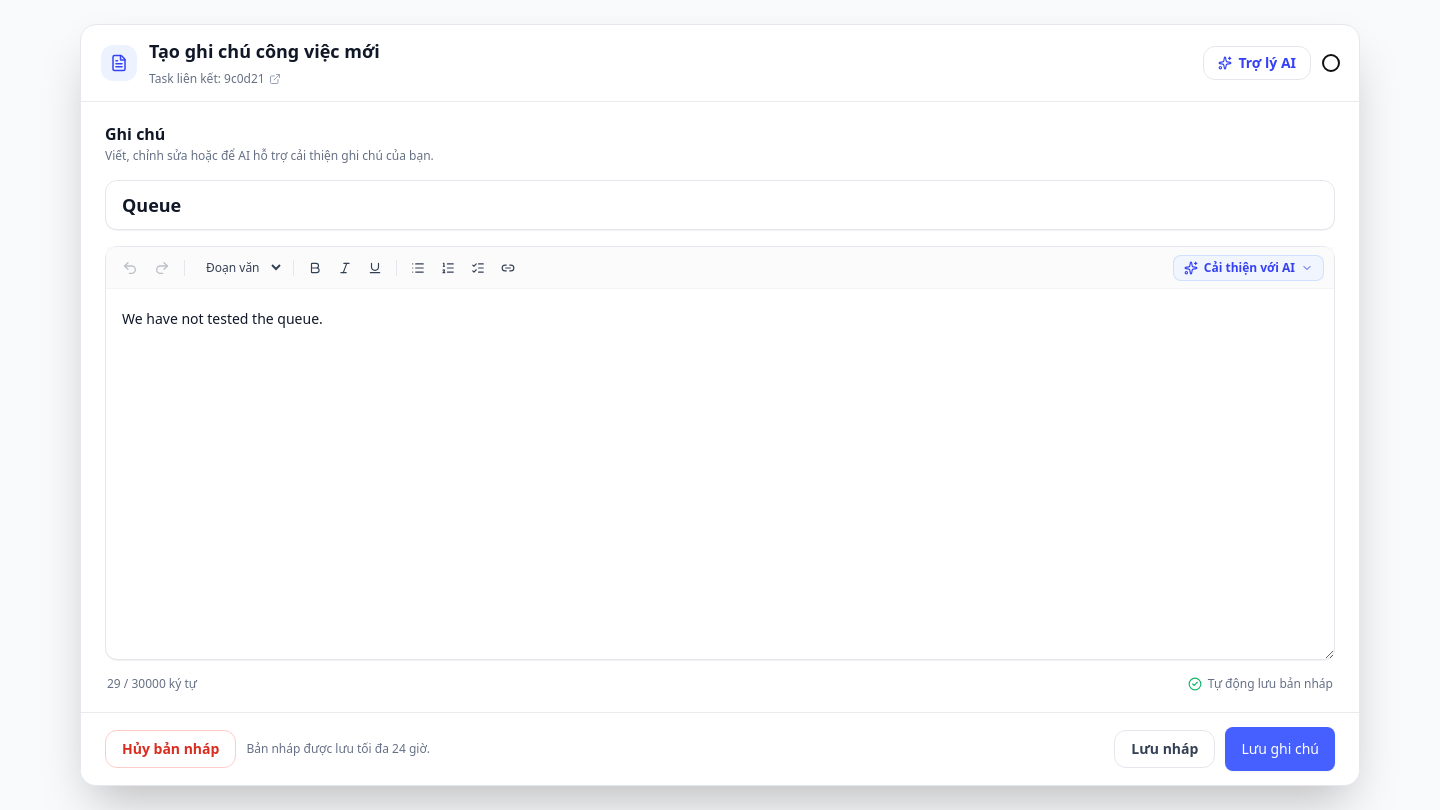
it: keeps newer typing when an Agent response arrives after a local edit
This screenshot has width=1440, height=810.
Expected: the text box showing "We have not tested the queue." is shown, [106,289,1334,659]
Click the button "Cải thiện với AI". click: (1248, 268)
box: [1173,255,1324,281]
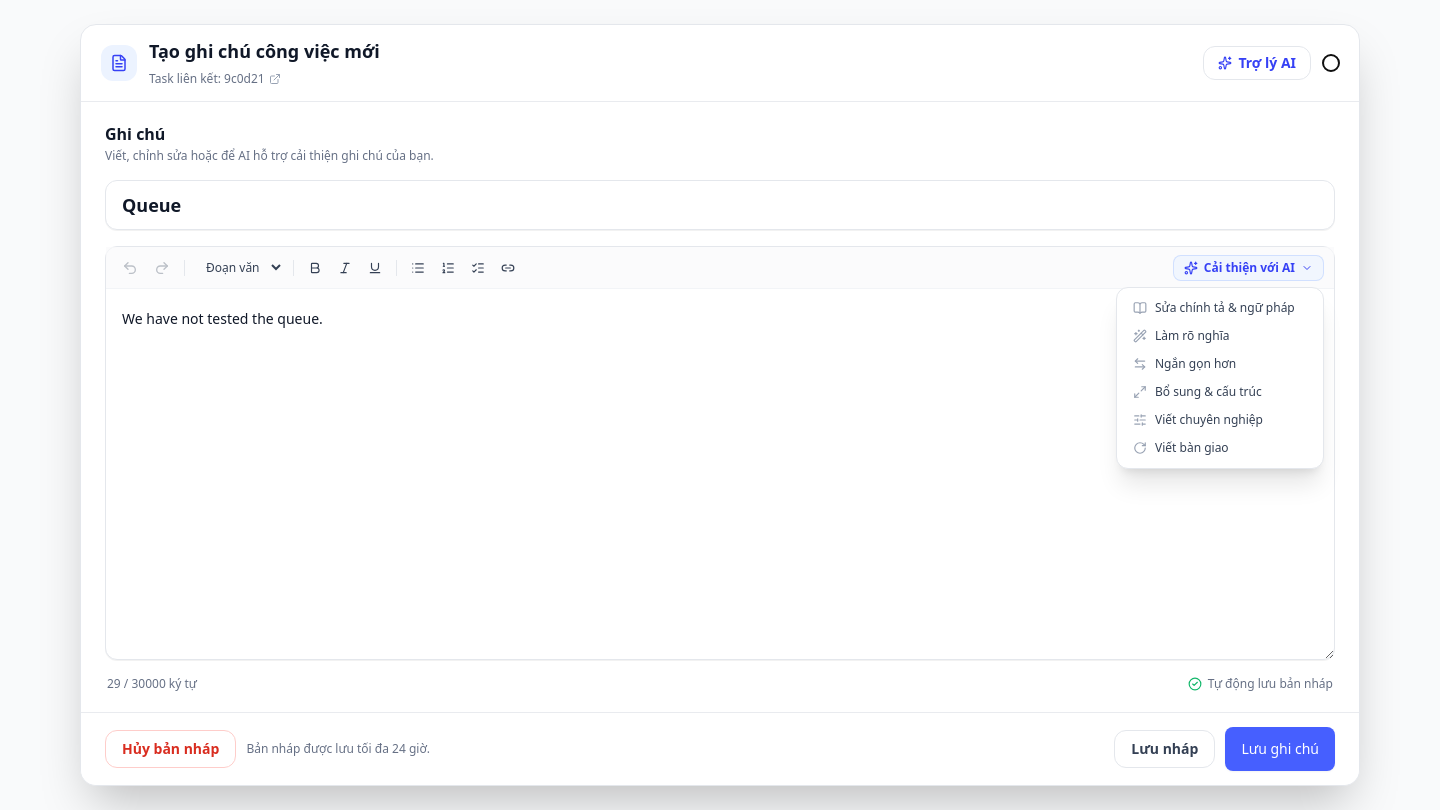
Click the button "Sửa chính tả & ngữ pháp". click: (1220, 308)
box: [1123,294,1317,322]
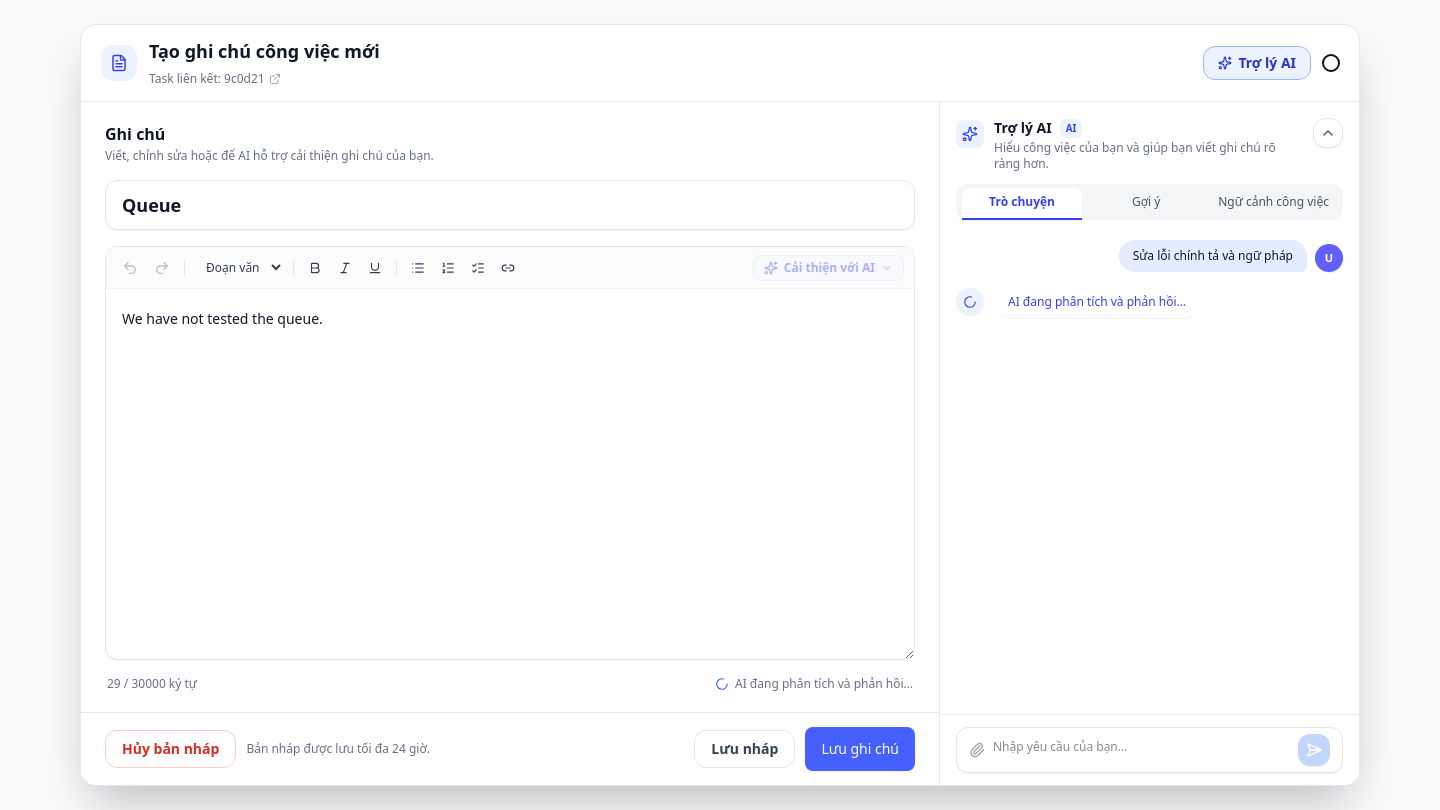
Replace the text in the text box named "Nội dung" with "A newer draft, still not tested.". click: (510, 474)
box: [106,289,914,659]
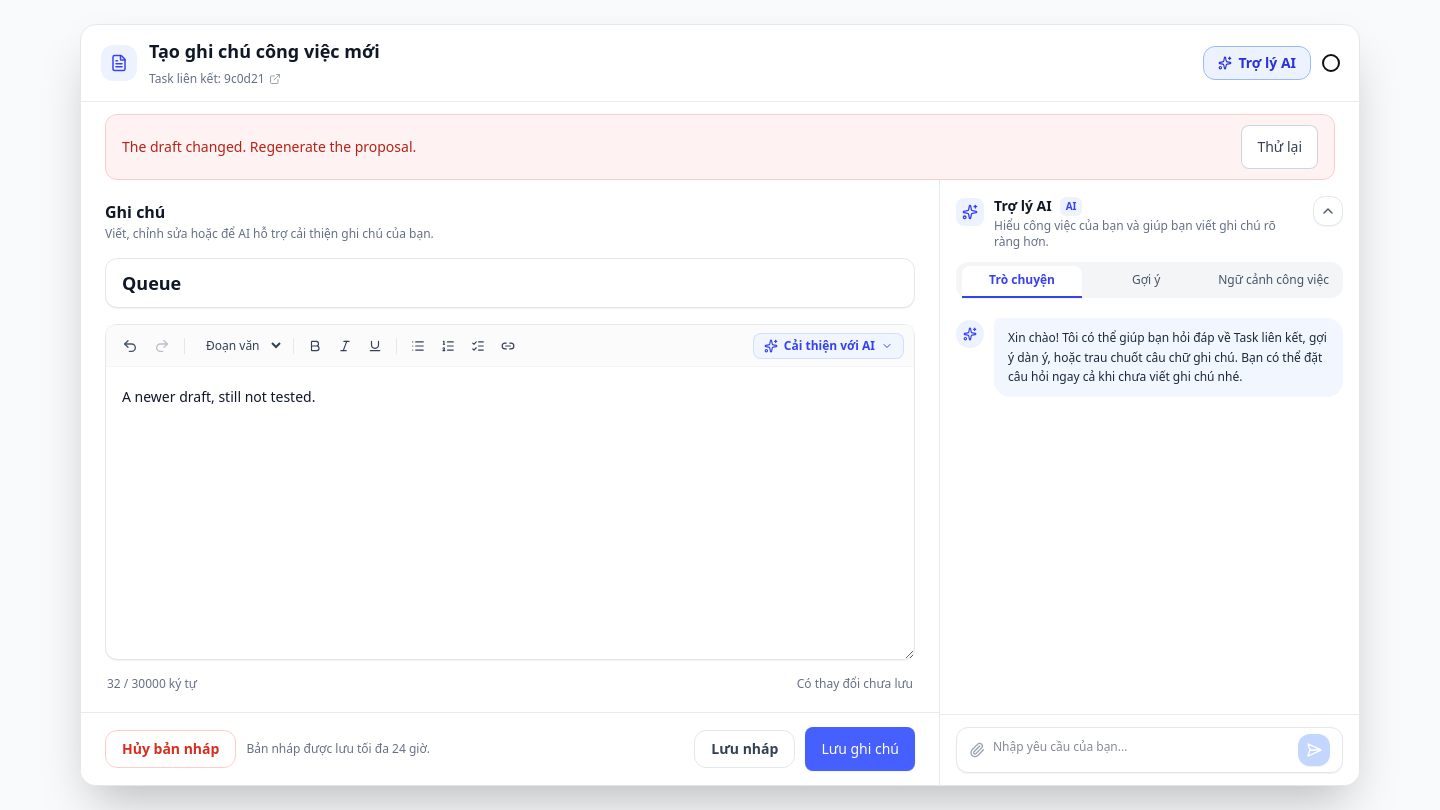
Expected: the message "The draft changed. Regenerate the proposal. Thử lại" is shown, [105,114,1335,180]
